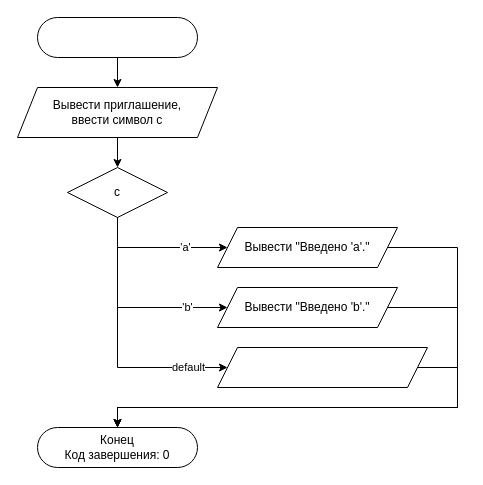
Image size: 483x485. Some labels were removed from this diagram. The centre of each missing label's shape, as x and y in pixels:
Вывести "Неизвестный символ": point 322,367
Начало: point 117,37
